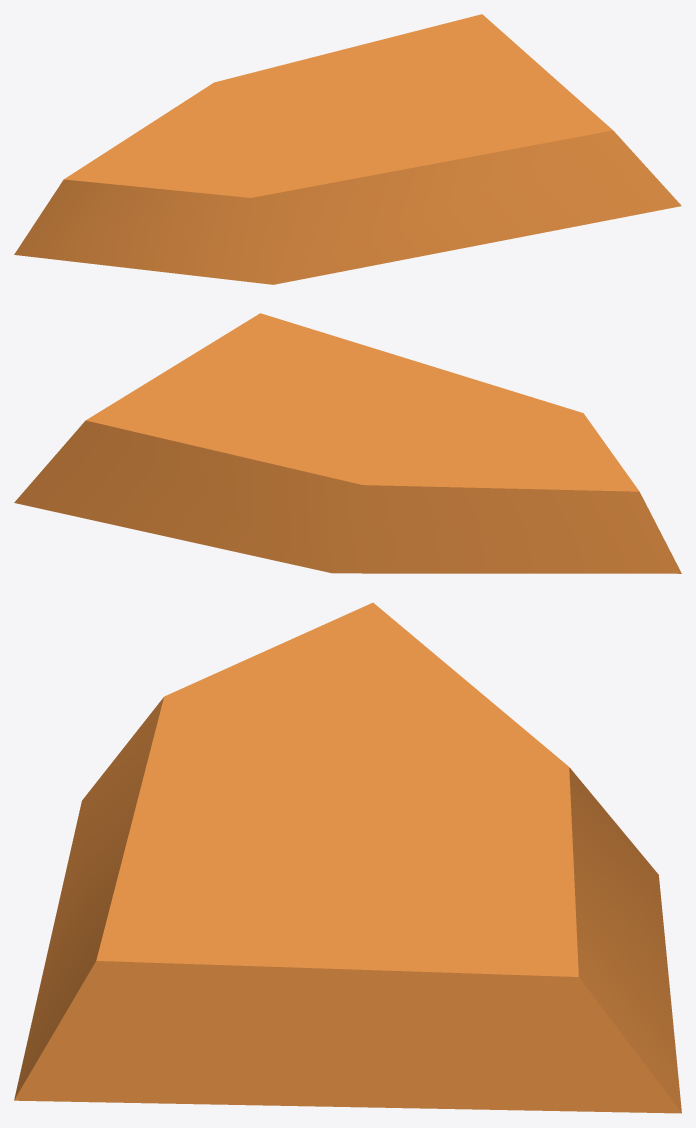
The model's file is stone_11.FBX.
3 views of the same model, one above another, from view 1: azimuth 30°, elevation 25°; view 2: azimuth 150°, elevation 25°; view 3: azimuth 270°, elevation 25° (orthographic). The views are drawn at different scales.
Parts seen in each view (by area): view 1: stone_11; view 2: stone_11; view 3: stone_11.
Boxes of the visible parts, <box> form: stone_11: <box>14,14,681,284</box>; stone_11: <box>14,313,681,573</box>; stone_11: <box>14,602,681,1113</box>.
Size of the model in its own units: 0.5143 by 0.0582 by 0.3301.
1 material, 1 textured.
